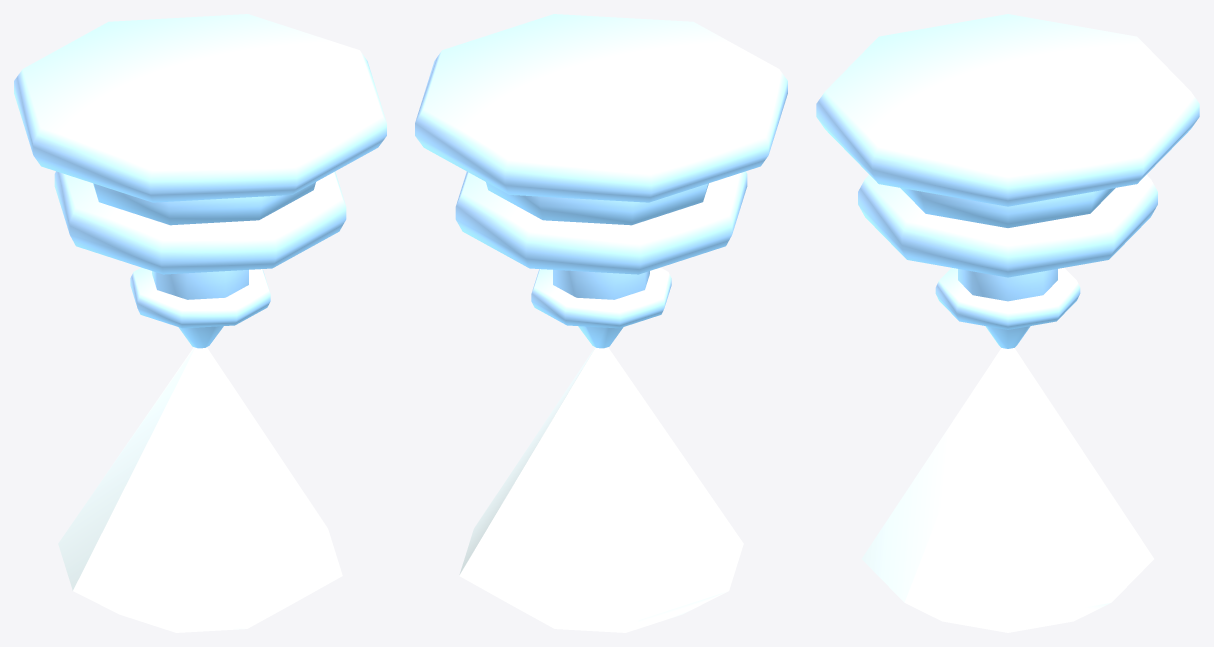
Rendered from steel_pommel_137.glb.
The picture shows the model from 3 angles, left to right: view 1: azimuth 30°, elevation 25°; view 2: azimuth 150°, elevation 25°; view 3: azimuth 270°, elevation 25°; orthographic projection.
Visible parts, largest first — view 1: steel_pommel_137; view 2: steel_pommel_137; view 3: steel_pommel_137.
Boxes of the visible parts, box(x1,y1,x2,y2) form: steel_pommel_137: box(14, 14, 386, 632); steel_pommel_137: box(415, 14, 787, 632); steel_pommel_137: box(816, 14, 1199, 632).
Bounding box in the file's own units: 1.76 × 2.54 × 1.76.
1 material, 1 textured.
